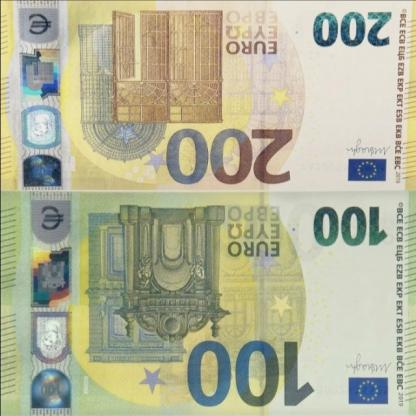euro_banknote: (2, 193, 416, 416), (2, 1, 416, 189)
